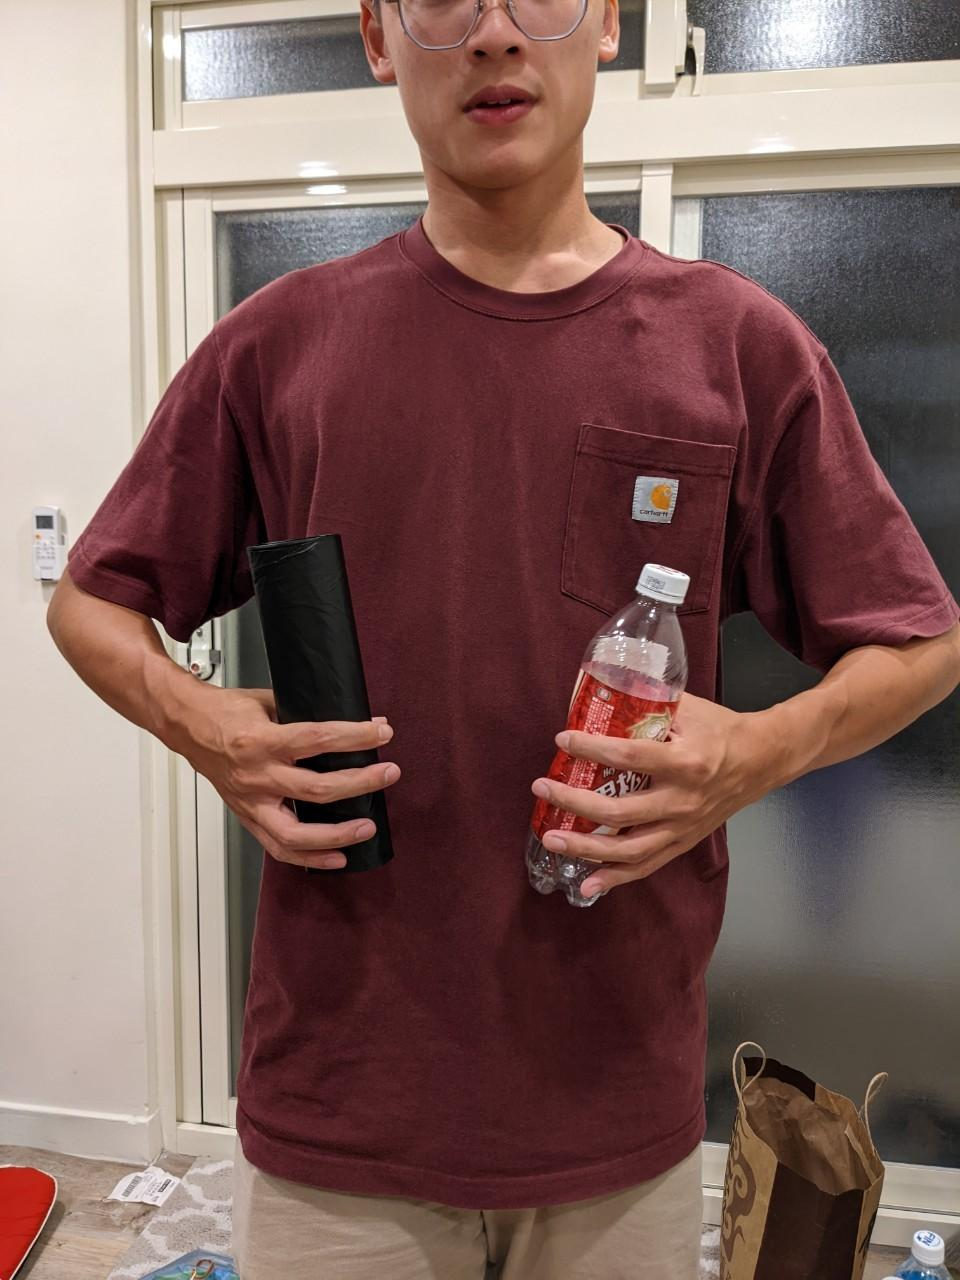BIODEGRADABLE: (515, 565, 693, 895)
